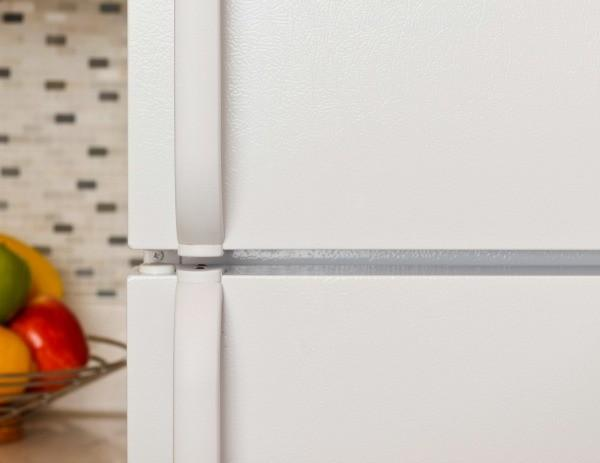handle: (158, 10, 233, 252), (168, 275, 230, 463)
